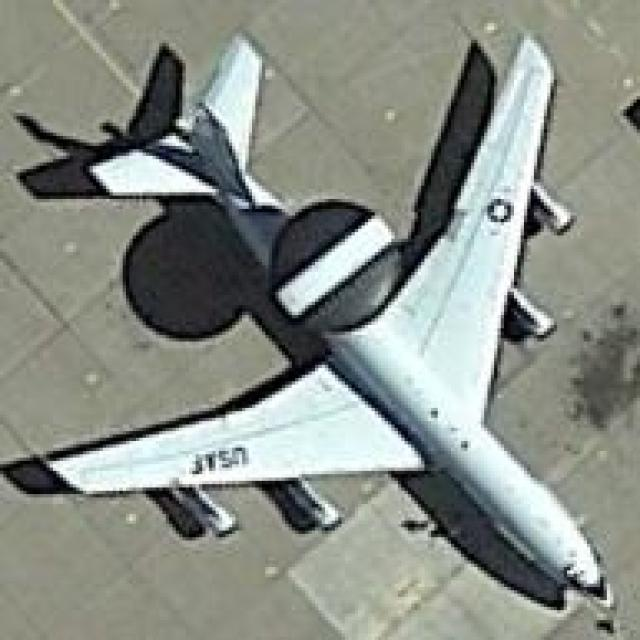E-3_TopDown: (0, 23, 617, 614)
